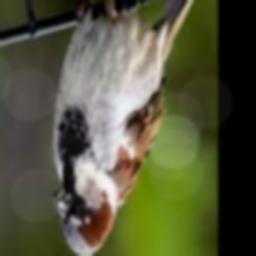Sparrow: (53, 0, 207, 256)
